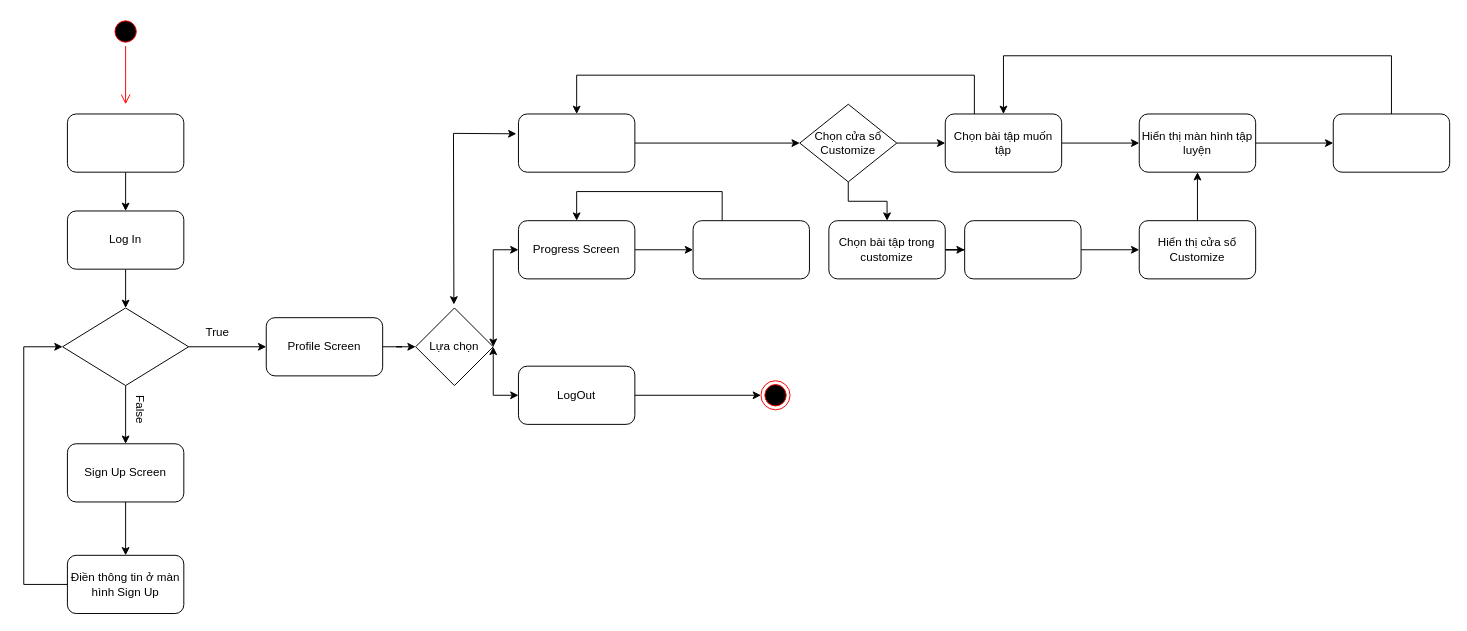
This 1467x631 diagram has some shape labels left out. Each missing label, with the box of its shape:
(Nếu đã có tài khoản): (62, 307, 189, 386)
Chọn số lượng rep và set: (964, 220, 1081, 279)
Get Started (Màn hình welcome): (66, 113, 184, 172)
Hiển thị màn hình luyện tập xong: (1332, 113, 1450, 172)
Hiển thị tiến trình tập luyện: (692, 220, 809, 279)
Workout Screen: (517, 113, 635, 172)
